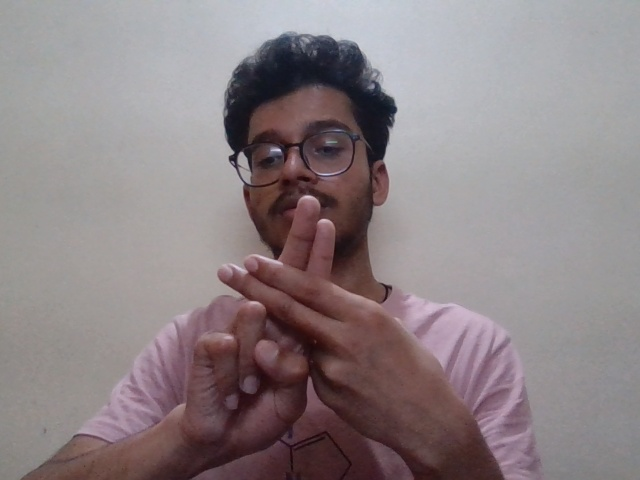disabled: (176, 190, 469, 451)
